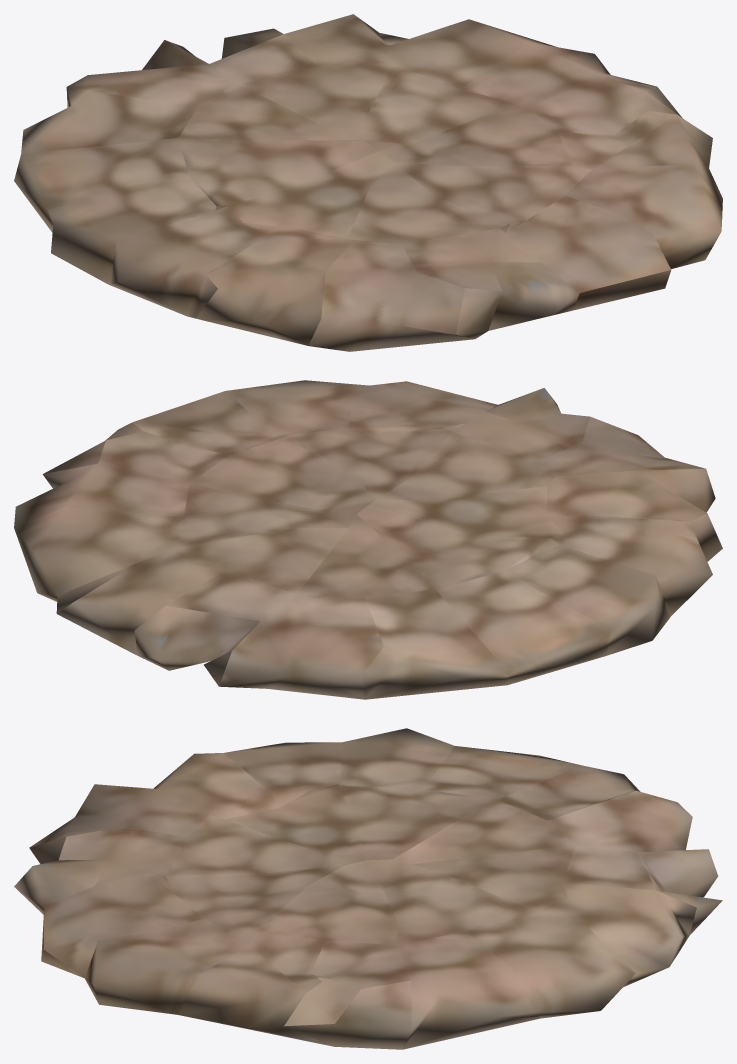
File: StoneFooting_lod.glb
The picture shows the model from 3 angles, top to bottom: view 1: azimuth 30°, elevation 25°; view 2: azimuth 150°, elevation 25°; view 3: azimuth 270°, elevation 25°; orthographic projection. The views are drawn at different scales.
Visible parts, largest first — view 1: StoneFooting; view 2: StoneFooting; view 3: StoneFooting.
Part boxes in pixels (<box>): StoneFooting: <box>14,14,722,351</box>; StoneFooting: <box>14,380,722,699</box>; StoneFooting: <box>14,728,722,1049</box>.
Bounding box in the file's own units: 0.9636 × 0.0859 × 0.9979.
Materials: 1 (1 with a texture image).
